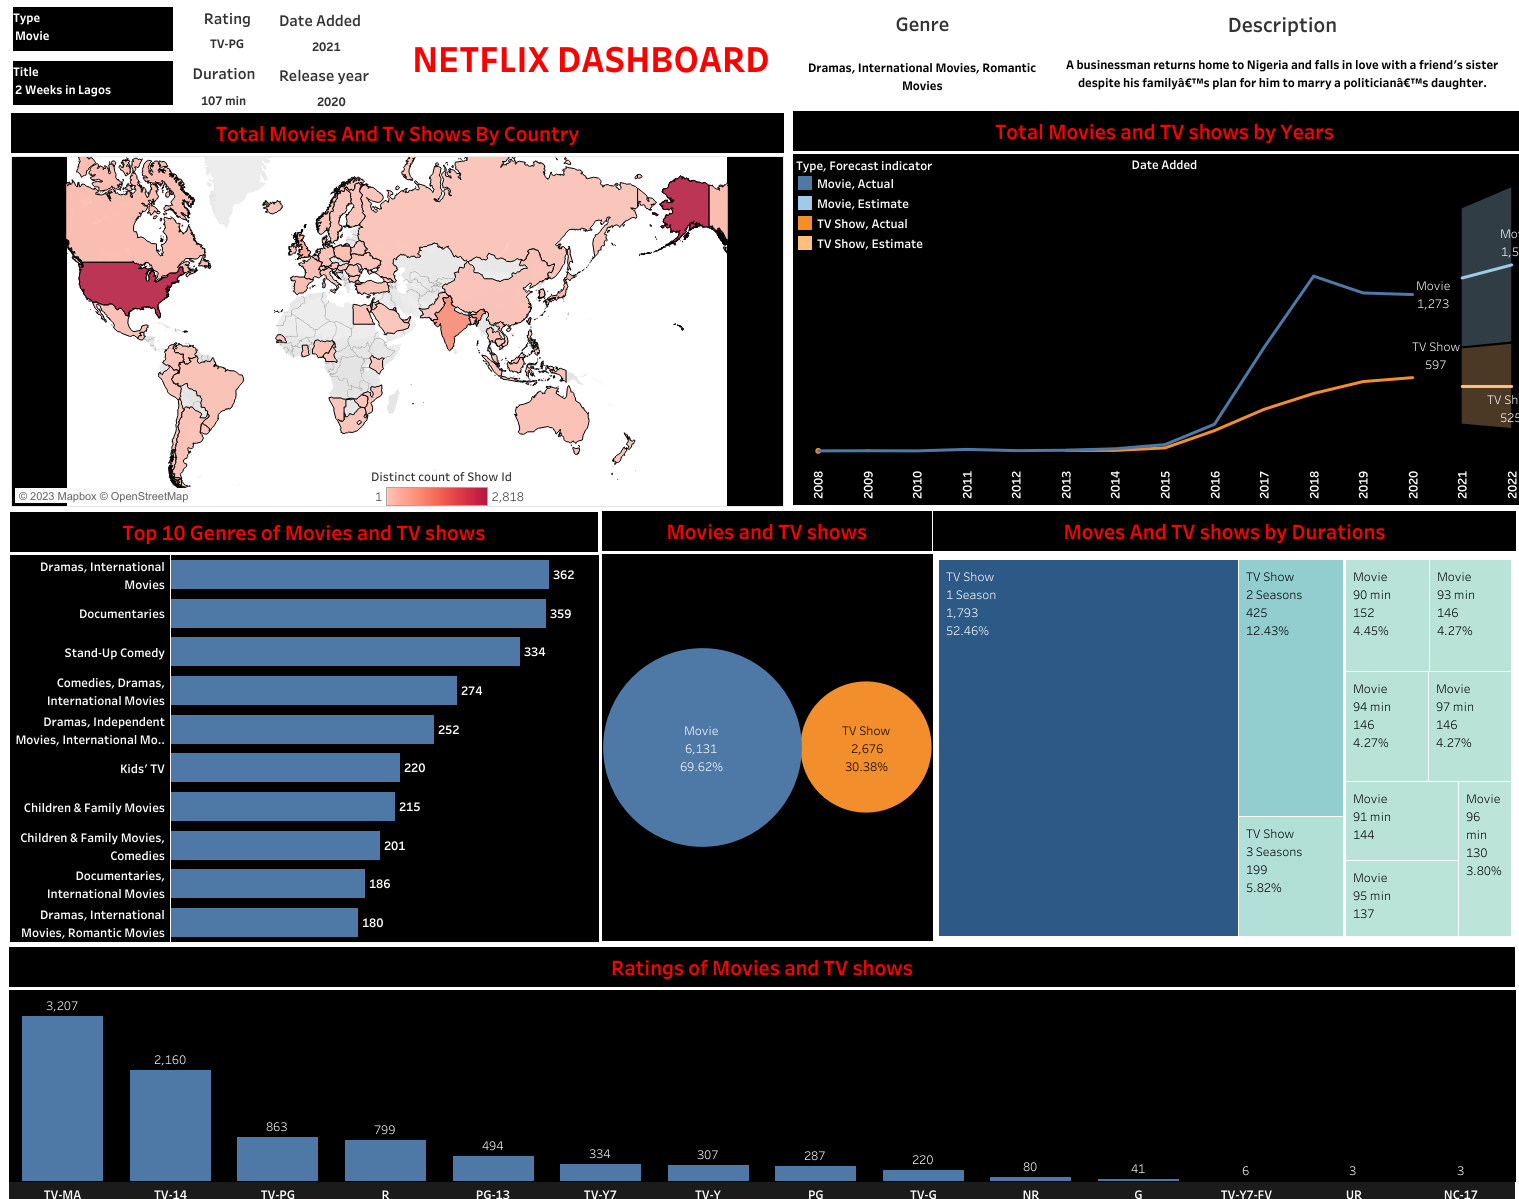

The dashboard page shown, as its layout file describes it:
{"tool":"tableau","page":{"name":"Dashboard 1","canvas":[1520,1200],"ordinal":0},"visuals":[{"type":"worksheet","title":"Rating","mark":"Automatic","box":[183,1,89,48]},{"type":"worksheet","title":"Date Added","mark":"Automatic","box":[275,3,104,50]},{"type":"worksheet","title":"Genre","mark":"Automatic","box":[791,4,263,102]},{"type":"worksheet","title":"Description","mark":"Automatic","box":[1050,4,465,95]},{"type":"text","box":[395,6,392,103]},{"type":"filter","title":"Date Added","param":"[federated.1wod7b80lxs67714jqry315lgqz2].[none:type:nk]","box":[13,7,160,44]},{"type":"worksheet","title":"Duration","mark":"Automatic","box":[178,56,92,53]},{"type":"worksheet","title":"Release year","mark":"Automatic","box":[275,58,114,51]},{"type":"filter","title":"Date Added","param":"[federated.1wod7b80lxs67714jqry315lgqz2].[none:title:nk]","box":[13,61,160,44]},{"type":"worksheet","title":"Total Movies And Tv Shows By Country","mark":"Automatic","box":[11,113,773,394]},{"type":"legend","title":"Total Movies and TV shows by Years","param":"[federated.1wod7b80lxs67714jqry315lgqz2].[none:type:nk]\n[federated.1wod7b80lxs67","box":[795,154,152,99]},{"type":"legend","title":"Total Movies And Tv Shows By Country","param":"[federated.1wod7b80lxs67714jqry315lgqz2].[ctd:show_id:qk]","box":[371,463,158,47]},{"type":"worksheet","title":"Movies and TV shows","mark":"Circle","box":[602,511,330,429]},{"type":"worksheet","title":"Moves And TV shows by Durations","mark":"Automatic","box":[933,511,583,431]},{"type":"worksheet","title":"Top 10 Genres of Movies and TV shows","mark":"Bar","rows":["listed_in"],"cols":["show_id"],"box":[10,512,588,430]},{"type":"worksheet","title":"Ratings of Movies and TV shows","mark":"Automatic","rows":["show_id"],"cols":["rating"],"box":[9,947,1506,256]}]}

Visuals, with their boxes in screenshot pixels (x1, y1, x2, y2), scaled from the page's 1520x1200 canvas onto the 1519x1199 screenshot:
"Rating" worksheet: l=183, t=1, r=272, b=49
"Date Added" worksheet: l=275, t=3, r=379, b=53
"Genre" worksheet: l=790, t=4, r=1053, b=106
"Description" worksheet: l=1049, t=4, r=1514, b=99
text: l=395, t=6, r=786, b=109
"Date Added" filter: l=13, t=7, r=173, b=51
"Duration" worksheet: l=178, t=56, r=270, b=109
"Release year" worksheet: l=275, t=58, r=389, b=109
"Date Added" filter: l=13, t=61, r=173, b=105
"Total Movies And Tv Shows By Country" worksheet: l=11, t=113, r=783, b=507
"Total Movies and TV shows by Years" legend: l=794, t=154, r=946, b=253
"Total Movies And Tv Shows By Country" legend: l=371, t=463, r=529, b=510
"Movies and TV shows" worksheet (Circle marks): l=602, t=511, r=931, b=939
"Moves And TV shows by Durations" worksheet: l=932, t=511, r=1515, b=941
"Top 10 Genres of Movies and TV shows" worksheet (Bar marks): l=10, t=512, r=598, b=941
"Ratings of Movies and TV shows" worksheet: l=9, t=946, r=1514, b=1198
